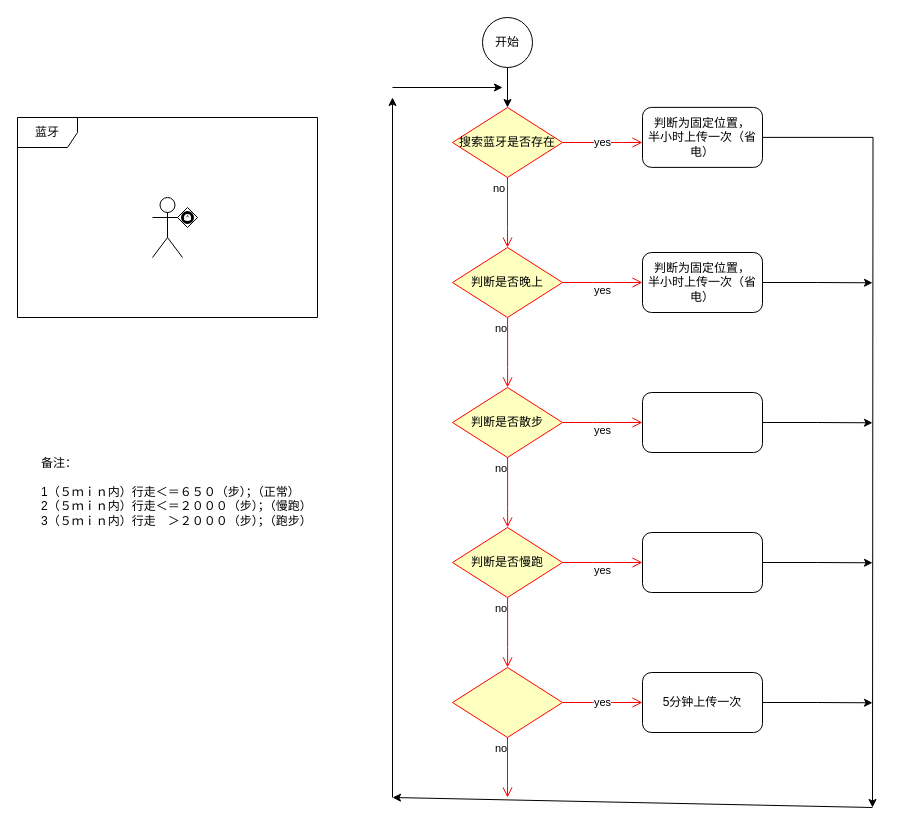
This 899x833 diagram has some shape labels left out. Each missing label, with the centre of its shape:
"10分钟上传一次" goes at (x=702, y=562).
"15分钟上传一次" goes at (x=702, y=422).
"判断是否跑步" goes at (x=507, y=702).
"设备" goes at (x=187, y=217).
